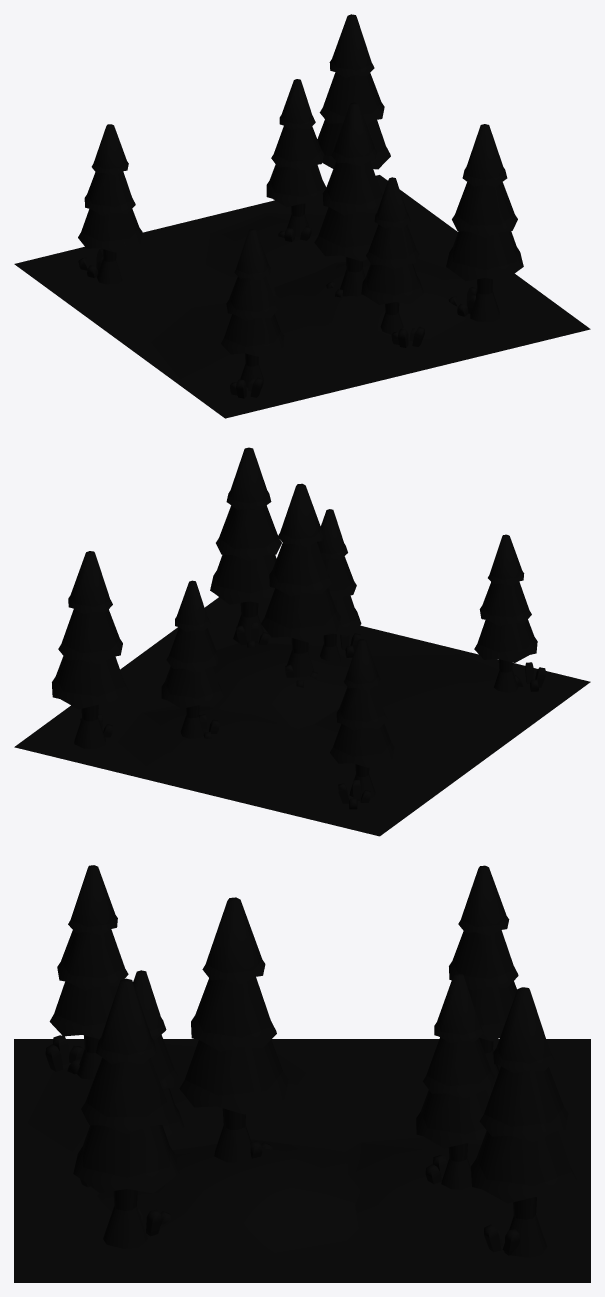
The model's file is decoration-forest.glb.
3 views of the same model, one above another, from view 1: azimuth 30°, elevation 25°; view 2: azimuth 150°, elevation 25°; view 3: azimuth 270°, elevation 25° (orthographic). The views are drawn at different scales.
Visible parts, largest first — view 1: decoration-forest; view 2: decoration-forest; view 3: decoration-forest.
Boxes of the visible parts, box(x1,y1,x2,y2) form: decoration-forest: box(14, 14, 590, 418); decoration-forest: box(14, 447, 590, 836); decoration-forest: box(14, 865, 590, 1282).
Bounding box in the file's own units: 10 × 5.33 × 10.
1 material, 1 textured.
